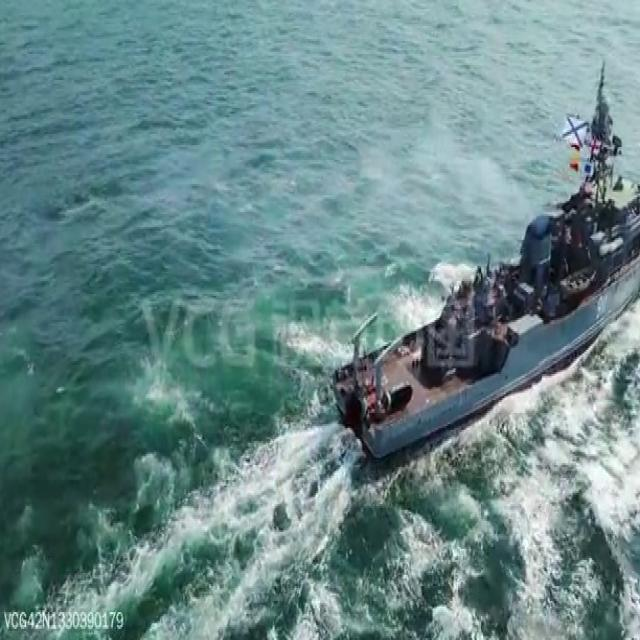navalvessels: (333, 65, 640, 455)
